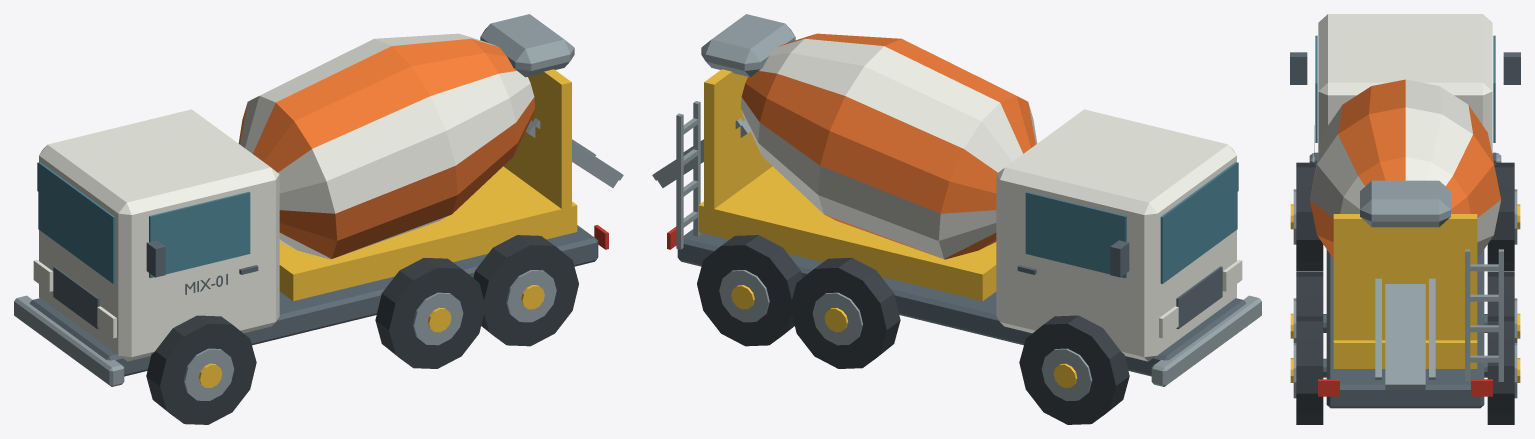
The model's file is Concrete_Mixer_Truck.fbx.
3 views of the same model, side by side, from view 1: azimuth 30°, elevation 25°; view 2: azimuth 150°, elevation 25°; view 3: azimuth 270°, elevation 25° (orthographic). The views are drawn at different scales.
Parts seen in each view (by area): view 1: Faceted Mixer Drum, Truck Cabin, Drum Support, Truck Chassis, Low Poly Tire.002, Low Poly Tire, Low Poly Tire.004, Cabin Side Window, Rear Hopper Support, Front Windshield, Feed Hopper, Cabin Bumper (+6 smaller); view 2: Faceted Mixer Drum, Truck Cabin, Drum Support, Low Poly Tire.003, Truck Chassis, Low Poly Tire.001, Low Poly Tire.005, Rear Hopper Support, Cabin Side Window.001, Front Windshield, Feed Hopper, Cabin Bumper (+7 smaller); view 3: Faceted Mixer Drum, Truck Cabin, Rear Hopper Support, Truck Chassis, Concrete Discharge Chute, Feed Hopper, Low Poly Tire.004, Drum Support, Low Poly Tire.005, Low Poly Tire, Low Poly Tire.001, Low Poly Tire.002 (+15 smaller).
Boxes of the visible parts, left/top/right/bottom form: Faceted Mixer Drum: left=238, top=33, right=534, bottom=259; Truck Cabin: left=39, top=109, right=279, bottom=361; Drum Support: left=279, top=166, right=577, bottom=301; Truck Chassis: left=29, top=225, right=598, bottom=376; Low Poly Tire.002: left=375, top=258, right=483, bottom=368; Low Poly Tire: left=146, top=315, right=256, bottom=424; Low Poly Tire.004: left=473, top=235, right=578, bottom=346; Cabin Side Window: left=149, top=192, right=250, bottom=278; Rear Hopper Support: left=503, top=69, right=571, bottom=217; Front Windshield: left=38, top=162, right=115, bottom=283; Feed Hopper: left=480, top=14, right=574, bottom=77; Cabin Bumper: left=14, top=295, right=124, bottom=386; Faceted Mixer Drum: left=741, top=33, right=1037, bottom=259; Truck Cabin: left=996, top=109, right=1236, bottom=361; Drum Support: left=698, top=166, right=996, bottom=301; Low Poly Tire.003: left=790, top=258, right=900, bottom=368; Truck Chassis: left=677, top=229, right=1246, bottom=376; Low Poly Tire.001: left=1019, top=315, right=1129, bottom=424; Low Poly Tire.005: left=697, top=235, right=802, bottom=346; Rear Hopper Support: left=704, top=69, right=772, bottom=217; Cabin Side Window.001: left=1025, top=192, right=1126, bottom=278; Front Windshield: left=1160, top=162, right=1237, bottom=283; Feed Hopper: left=701, top=14, right=795, bottom=77; Cabin Bumper: left=1151, top=295, right=1261, bottom=386; Faceted Mixer Drum: left=1310, top=79, right=1500, bottom=258; Truck Cabin: left=1318, top=14, right=1492, bottom=155; Rear Hopper Support: left=1333, top=214, right=1477, bottom=340; Truck Chassis: left=1326, top=249, right=1484, bottom=408; Concrete Discharge Chute: left=1385, top=284, right=1425, bottom=389; Feed Hopper: left=1360, top=180, right=1450, bottom=227; Low Poly Tire.004: left=1296, top=316, right=1323, bottom=424; Drum Support: left=1333, top=340, right=1477, bottom=368; Low Poly Tire.005: left=1487, top=316, right=1514, bottom=424; Low Poly Tire: left=1296, top=162, right=1323, bottom=271; Low Poly Tire.001: left=1487, top=162, right=1514, bottom=271; Low Poly Tire.002: left=1296, top=271, right=1323, bottom=316.
Bounding box in the file's own units: 646 × 315 × 241.
